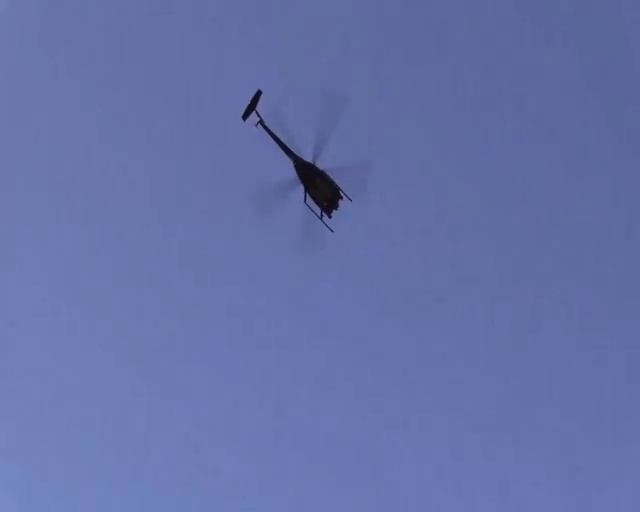HELICOPTER: (240, 87, 370, 233)
